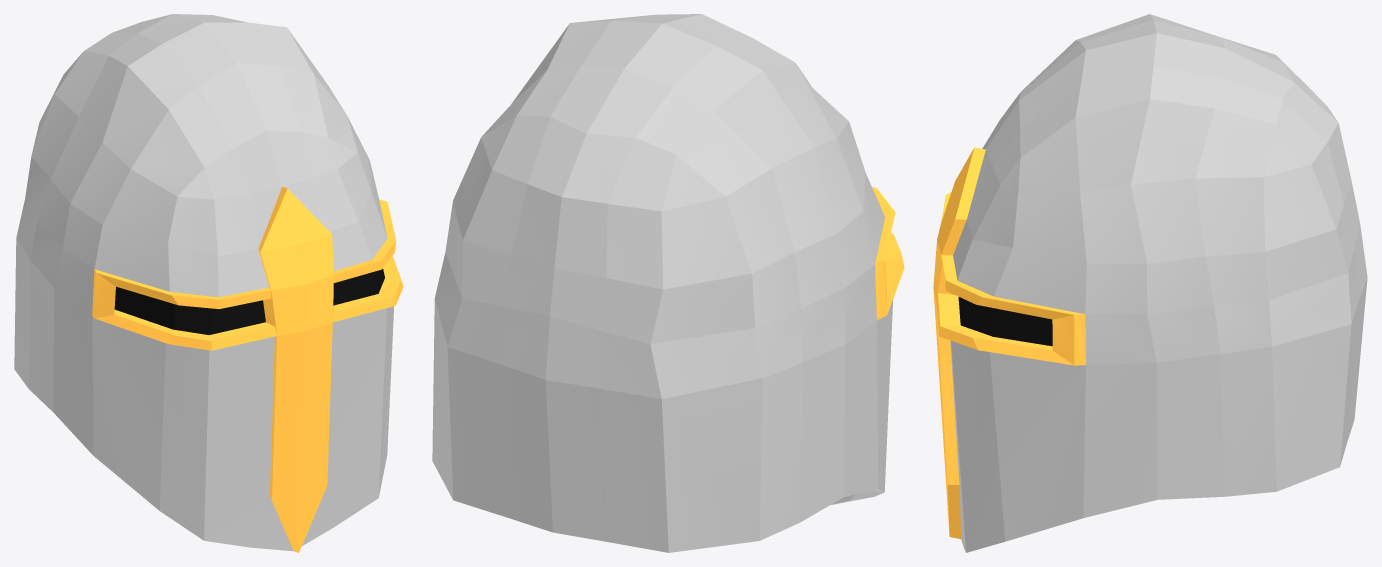
File: helmet3.glb
3 renders of one model, left to right at view 1: azimuth 30°, elevation 25°; view 2: azimuth 150°, elevation 25°; view 3: azimuth 270°, elevation 25°, orthographic. The views are drawn at different scales.
Visible parts, largest first — view 1: Helmet3; view 2: Helmet3; view 3: Helmet3.
Boxes of the visible parts, x1,y1,x2,y2 form: Helmet3: (14, 14, 403, 552); Helmet3: (432, 14, 904, 552); Helmet3: (933, 14, 1367, 552).
Bounding box in the file's own units: 1.26 × 1.85 × 1.44.
